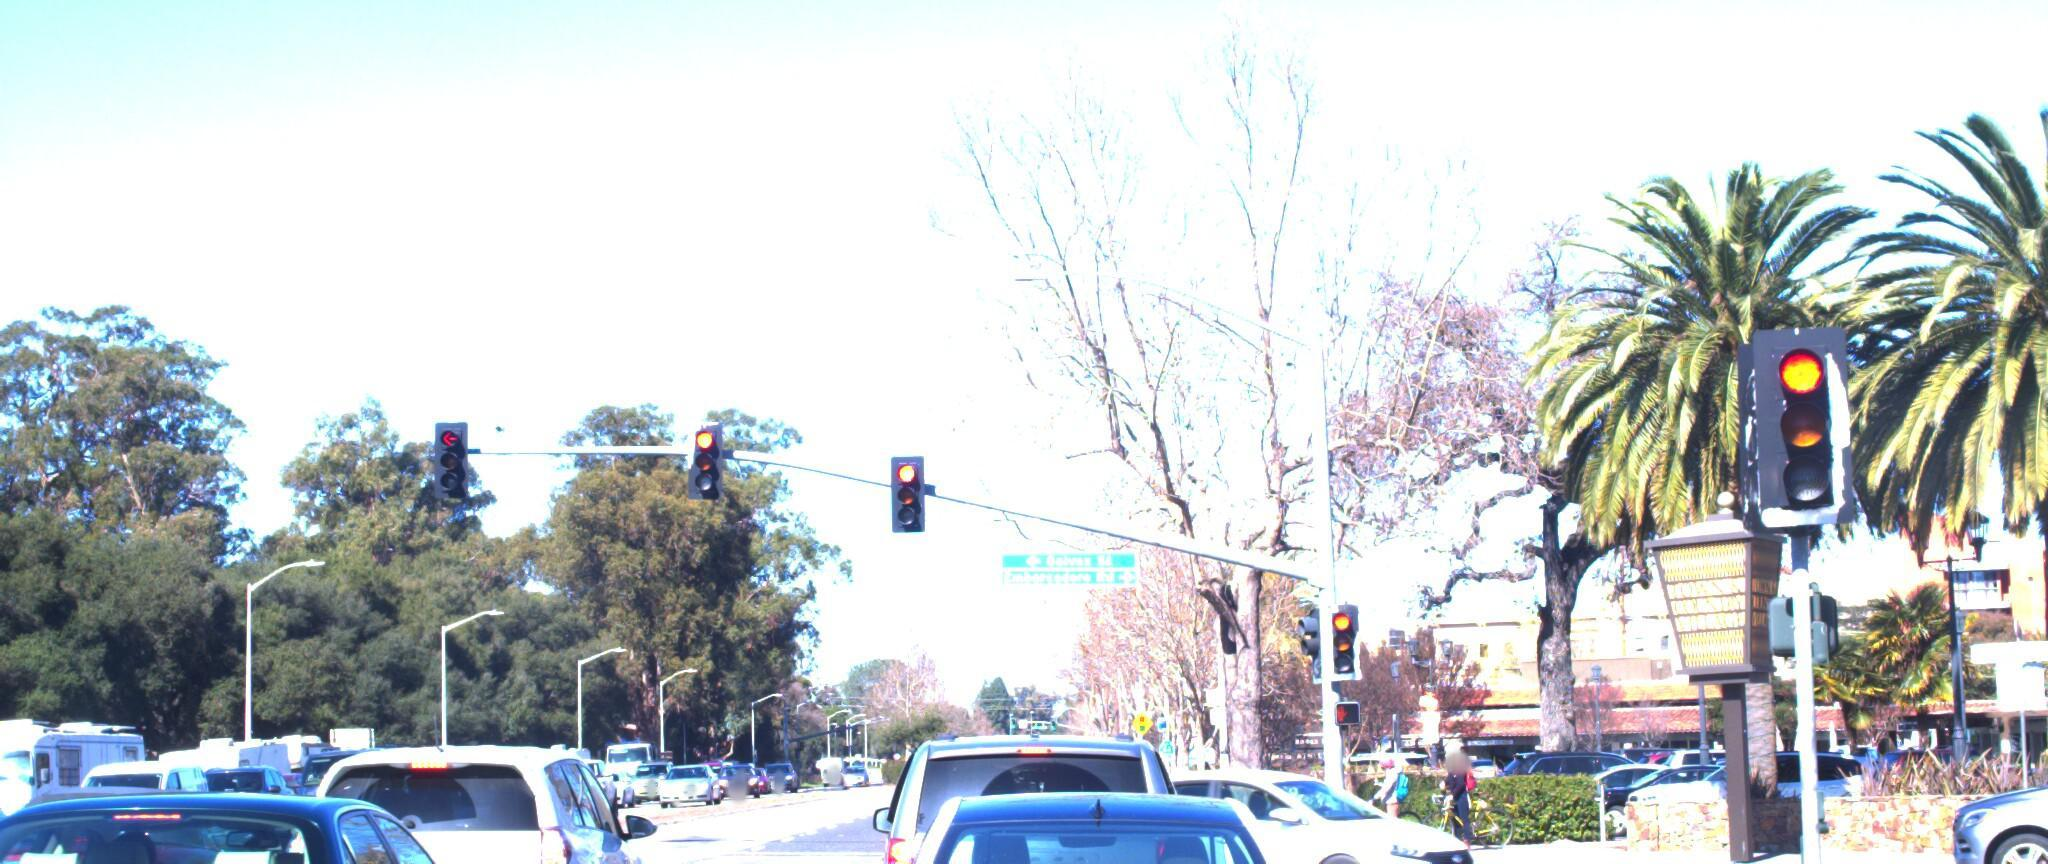car: (286, 732, 678, 864), (819, 777, 1387, 864), (863, 719, 1199, 864), (1045, 766, 1496, 864), (0, 807, 543, 864), (0, 771, 320, 864), (1921, 715, 2048, 864)
other_vehicle: (0, 707, 159, 864), (56, 761, 234, 864)
